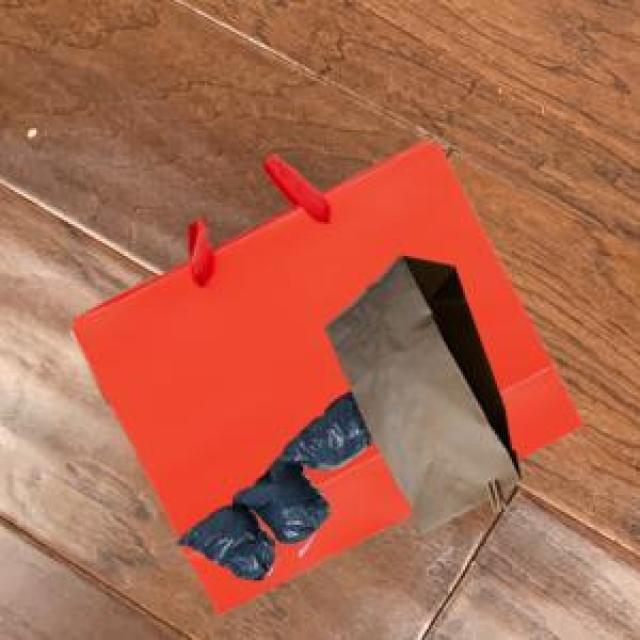miscellaneous trash: (173, 388, 369, 576)
paper: (66, 137, 580, 610), (322, 252, 516, 529)
